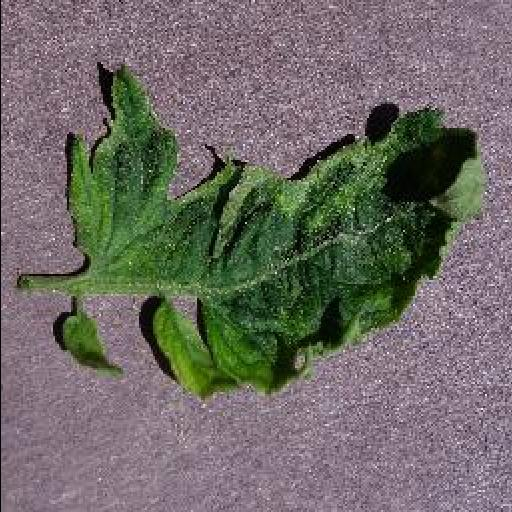Mosaic Virus: (62, 56, 480, 402)
